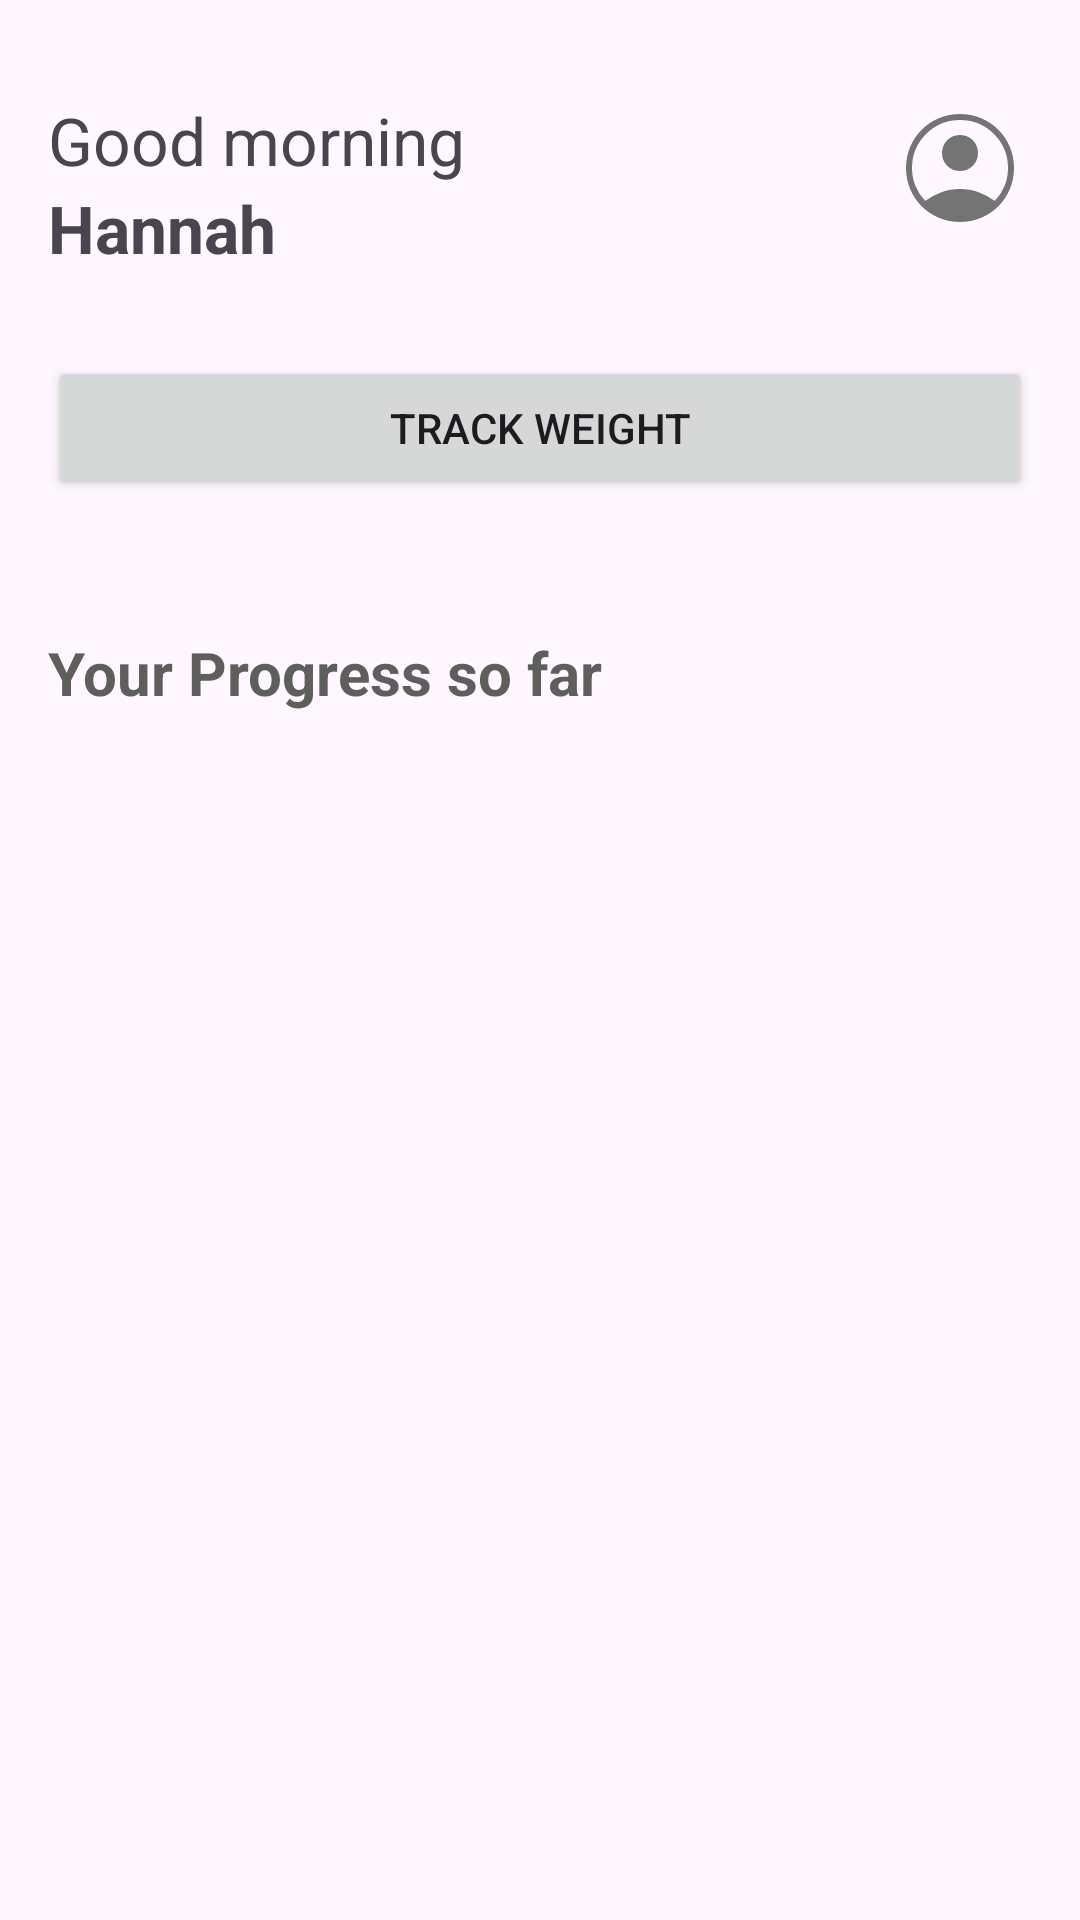

Point at icon controls on the screen. Image size 1080px×1920px, points as (x,y).
Go to Profile page: (960,168)
